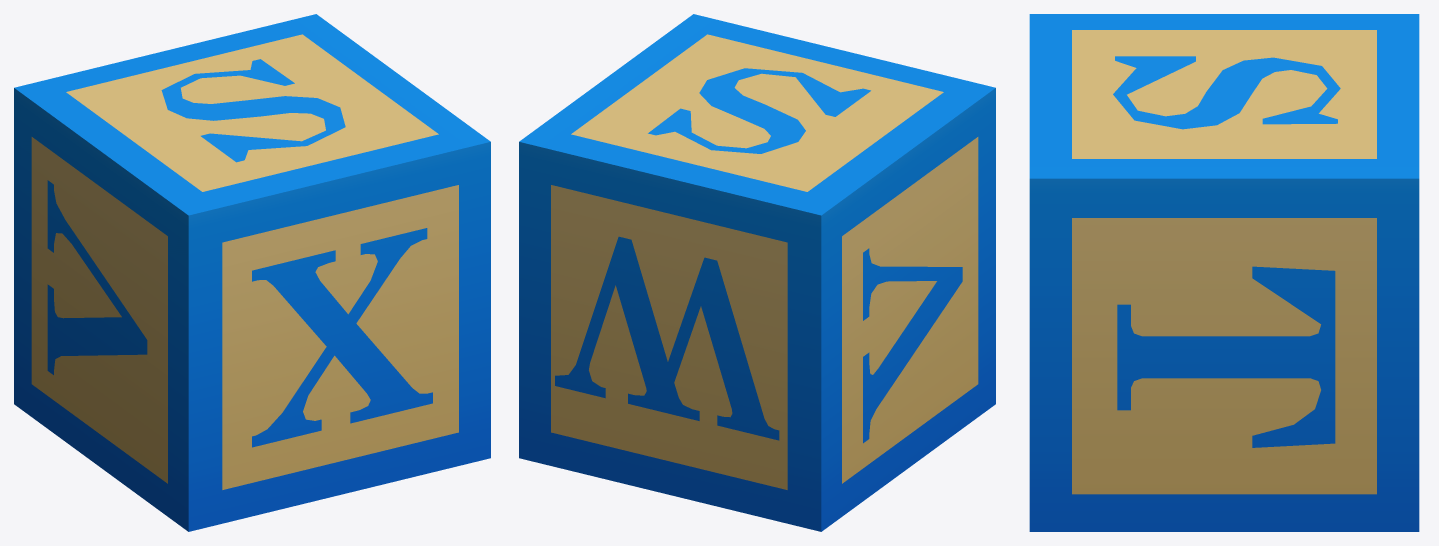
File: cube_STUVWX.fbx
3 views of the same model, side by side, from view 1: azimuth 30°, elevation 25°; view 2: azimuth 150°, elevation 25°; view 3: azimuth 270°, elevation 25° (orthographic). The views are drawn at different scales.
Visible parts, largest first — view 1: cube_STUVWX; view 2: cube_STUVWX; view 3: cube_STUVWX.
Part boxes in pixels (x1=…): cube_STUVWX: x1=14, y1=14, x2=490, y2=531; cube_STUVWX: x1=519, y1=14, x2=995, y2=531; cube_STUVWX: x1=1029, y1=14, x2=1419, y2=531.
Size of the model in its own units: 6.53 by 6.53 by 6.53.
